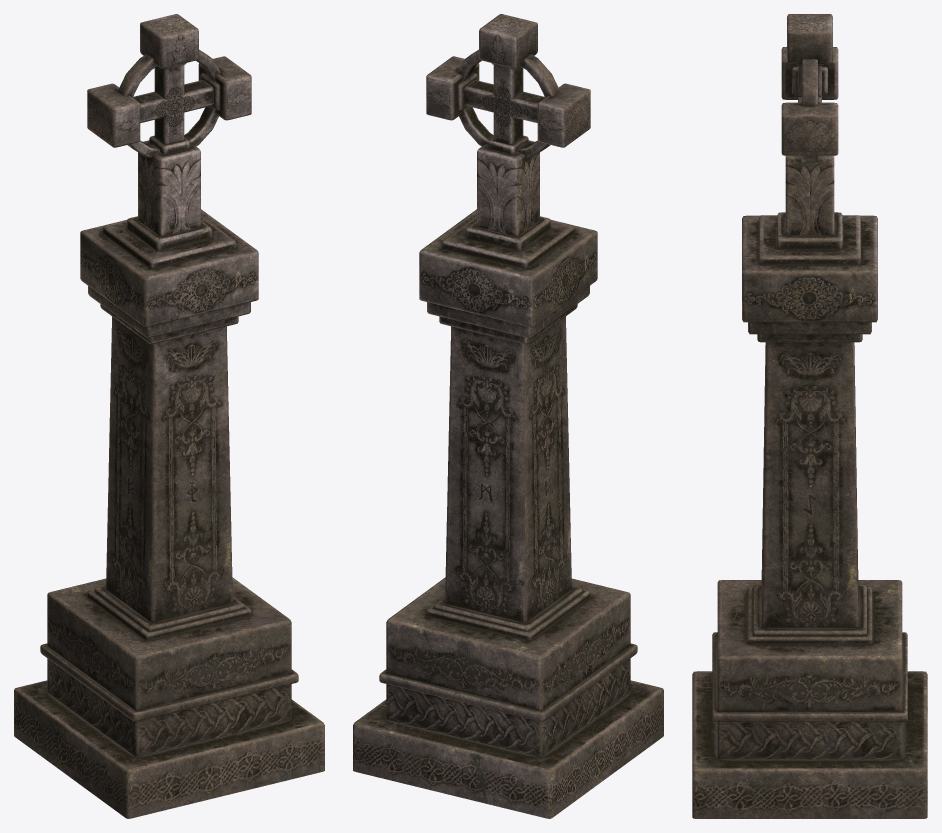
The model's file is SM_gravestone_61.fbx.
3 views of the same model, side by side, from view 1: azimuth 30°, elevation 25°; view 2: azimuth 150°, elevation 25°; view 3: azimuth 270°, elevation 25° (orthographic). The views are drawn at different scales.
Parts seen in each view (by area): view 1: SM_gravestone_061; view 2: SM_gravestone_061; view 3: SM_gravestone_061.
Part boxes in pixels (x1,y1,x2,y2): SM_gravestone_061: [14, 14, 324, 818]; SM_gravestone_061: [353, 14, 663, 818]; SM_gravestone_061: [692, 14, 927, 818].
Bounding box in the file's own units: 76.32 × 268 × 76.32.
